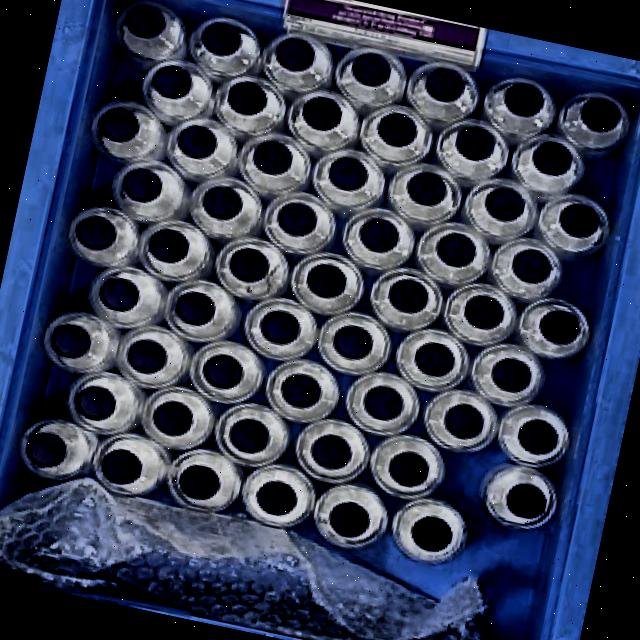vial: (101, 449, 142, 484), (147, 228, 189, 262), (406, 171, 446, 206), (50, 323, 90, 358), (363, 385, 403, 420), (25, 432, 65, 467), (411, 516, 451, 551), (98, 107, 139, 141), (463, 295, 504, 329), (443, 404, 484, 438), (517, 419, 558, 453), (256, 481, 297, 515), (229, 247, 268, 282), (124, 3, 164, 37), (121, 168, 161, 202), (351, 52, 391, 86), (425, 67, 465, 101), (580, 97, 620, 131), (532, 141, 572, 175), (511, 248, 551, 282), (98, 277, 138, 311), (174, 291, 214, 325), (414, 342, 454, 376), (127, 339, 167, 373), (202, 354, 242, 388), (75, 386, 115, 420), (311, 434, 351, 468), (506, 484, 546, 518), (179, 465, 219, 499), (151, 65, 192, 98), (75, 216, 116, 249), (201, 21, 240, 55), (302, 96, 341, 130), (253, 140, 292, 174), (328, 156, 367, 190), (277, 202, 316, 236), (436, 232, 475, 266), (504, 82, 543, 116), (455, 126, 494, 160), (491, 358, 530, 392), (153, 401, 192, 435), (389, 452, 428, 486), (329, 502, 368, 536), (484, 187, 524, 220), (559, 204, 599, 237), (306, 264, 346, 297), (280, 374, 320, 407), (276, 37, 314, 71), (230, 418, 268, 452), (177, 125, 216, 158), (227, 81, 266, 114), (202, 186, 241, 219), (359, 218, 398, 251), (540, 311, 579, 344), (260, 311, 299, 344), (378, 113, 416, 146), (389, 279, 427, 312), (333, 326, 371, 359)
